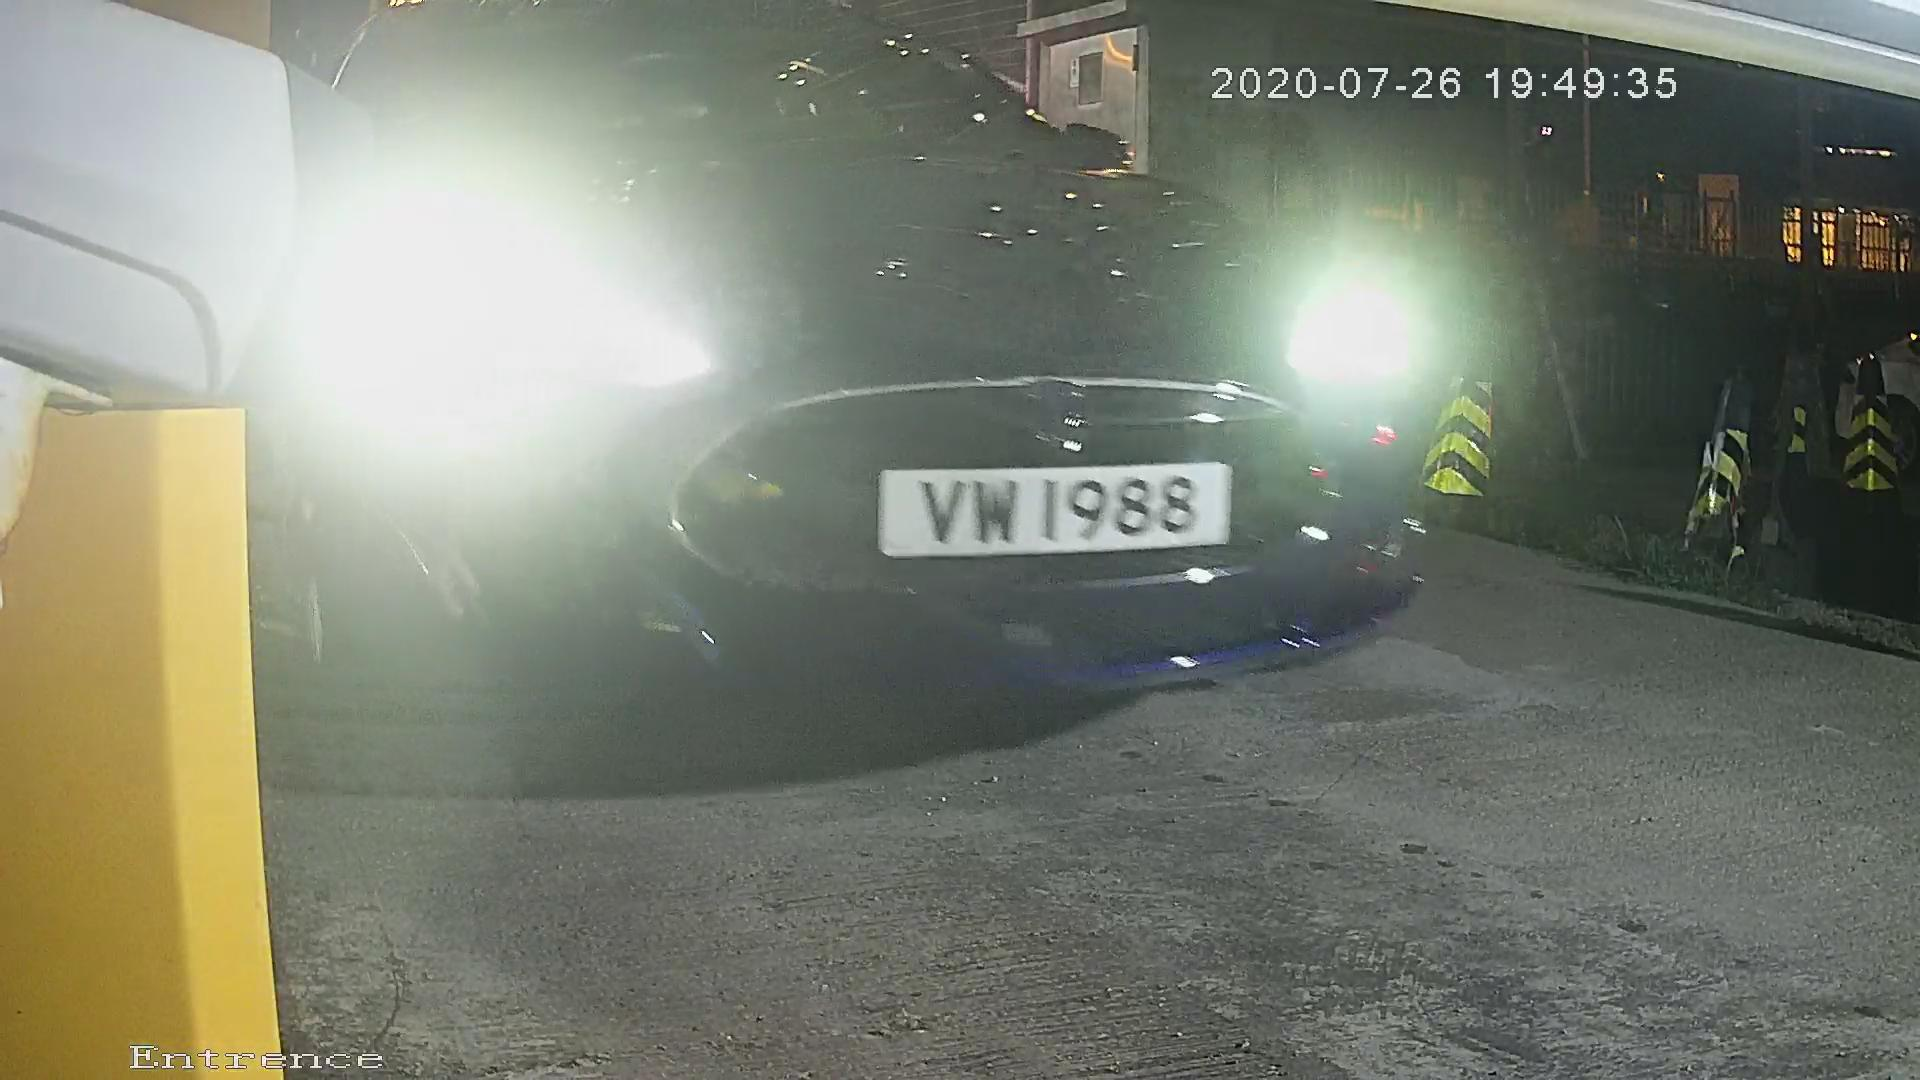License Plate: (840, 444, 1261, 581)
